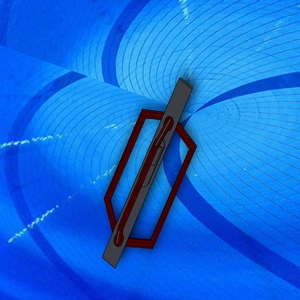submarine: (96, 71, 206, 278)
